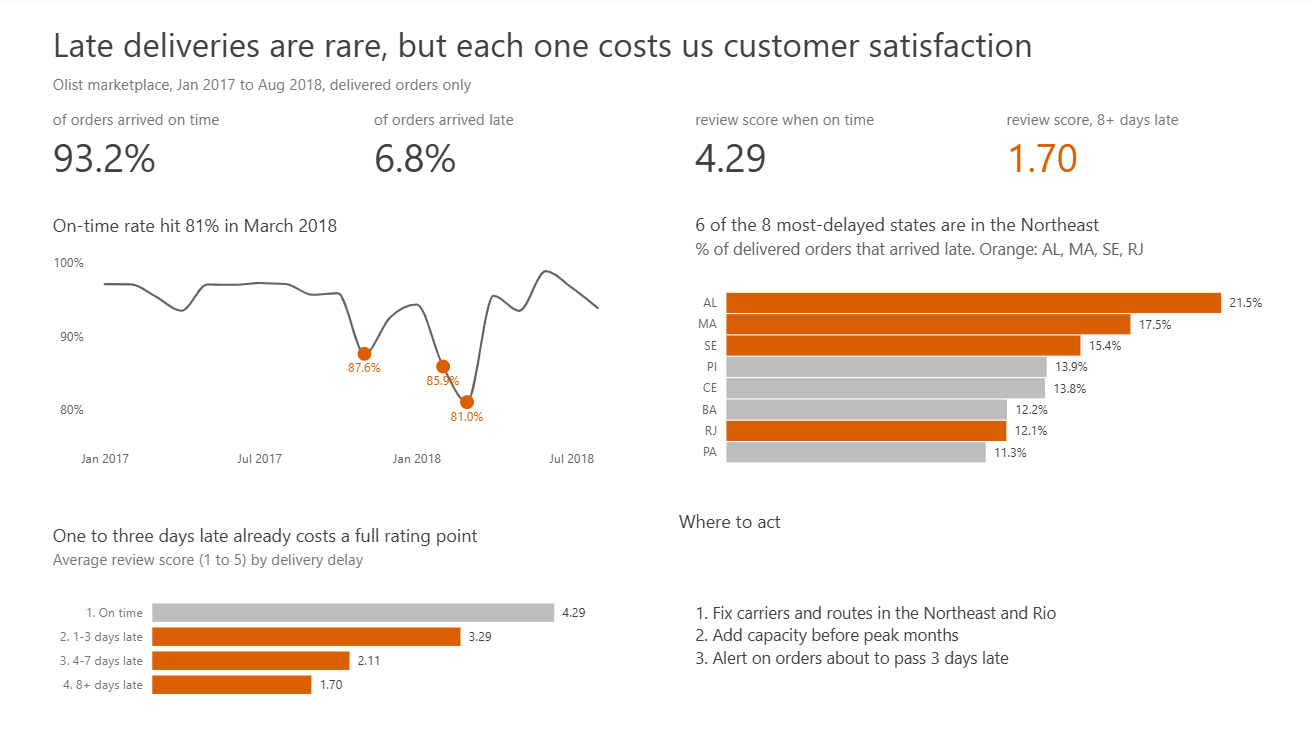

The dashboard page shown, as its layout file describes it:
{"tool":"powerbi","page":{"name":"Page 1","canvas":[1280,720],"ordinal":0},"visuals":[{"type":"cardVisual","fields":{"Data":["Deliveries.Dashboard Title"]},"box":[40,20,1200,50],"z":0},{"type":"cardVisual","fields":{"Data":["Deliveries.Dashboard Subtitle"]},"box":[40,70,1200,30],"z":1000},{"type":"cardVisual","fields":{"Data":["Deliveries.On-Time %"]},"box":[40,110,280,70],"z":2000},{"type":"cardVisual","fields":{"Data":["Reviews.Rating 8+ Days Late"]},"box":[960,110,280,70],"z":3000},{"type":"cardVisual","fields":{"Data":["Reviews.Rating On Time"]},"box":[660,110,280,70],"z":4000},{"type":"cardVisual","fields":{"Data":["Deliveries.Late %"]},"box":[350,110,280,70],"z":5000},{"type":"lineChart","title":"On-time rate hit 81% in March 2018","fields":{"Category":["Deliveries.Order Month Date"],"Y":["Deliveries.On-Time %","Deliveries.On-Time % Low Months"]},"box":[40,195,580,280],"z":6000},{"type":"clusteredBarChart","title":"6 of the 8 most-delayed states are in the Northeast","fields":{"Category":["Deliveries.customer_state"],"Y":["Deliveries.Late %"]},"box":[660.1,194.4,579.5,280.2],"z":7000},{"type":"clusteredBarChart","title":"One to three days late already costs a full rating point","fields":{"Category":["Deliveries.Delay Band"],"Y":["Reviews.Avg Review Score"]},"box":[40,495,580,205],"z":8000},{"type":"cardVisual","title":"Where to act","fields":{"Data":["Deliveries.Actions Text"]},"box":[660,495,580,205],"z":9000}]}

Visuals, with their boxes in screenshot pixels (x1, y1, x2, y2), scaled from the page's 1280x720 canvas onto the 1312x737 screenshot:
cardVisual - Deliveries.Dashboard Title: region(41, 20, 1271, 72)
cardVisual - Deliveries.Dashboard Subtitle: region(41, 72, 1271, 102)
cardVisual - Deliveries.On-Time %: region(41, 113, 328, 184)
cardVisual - Reviews.Rating 8+ Days Late: region(984, 113, 1271, 184)
cardVisual - Reviews.Rating On Time: region(676, 113, 963, 184)
cardVisual - Deliveries.Late %: region(359, 113, 646, 184)
"On-time rate hit 81% in March 2018" lineChart: region(41, 200, 636, 486)
"6 of the 8 most-delayed states are in the Northeast" clusteredBarChart: region(677, 199, 1271, 486)
"One to three days late already costs a full rating point" clusteredBarChart: region(41, 507, 636, 717)
"Where to act" cardVisual: region(676, 507, 1271, 717)
